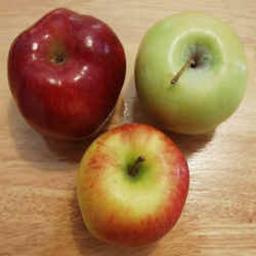apple: (4, 9, 127, 145), (137, 11, 248, 137), (77, 124, 190, 245)
